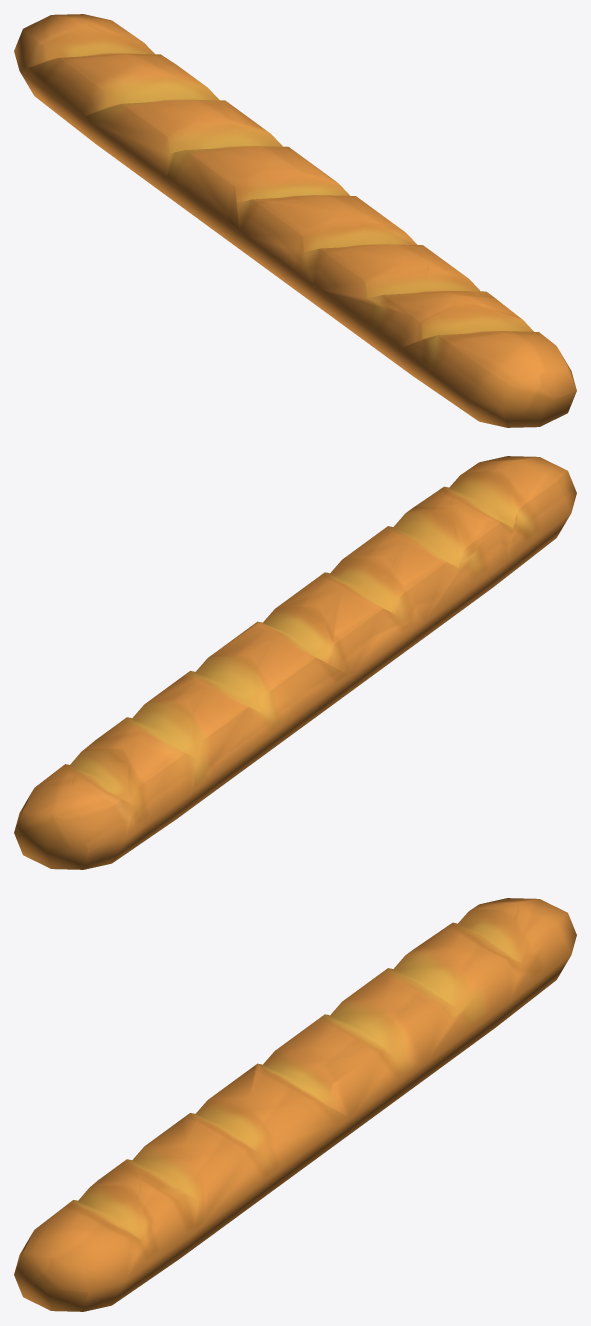
The model's file is baguette.fbx.
The picture shows the model from 3 angles, top to bottom: view 1: azimuth 30°, elevation 25°; view 2: azimuth 150°, elevation 25°; view 3: azimuth 330°, elevation 25°; orthographic projection.
Visible parts, largest first — view 1: baguette; view 2: baguette; view 3: baguette.
Boxes of the visible parts, box(x1,y1,x2,y2) form: baguette: box(14, 14, 576, 427); baguette: box(14, 456, 576, 869); baguette: box(14, 898, 576, 1311).
Bounding box in the file's own units: 9.17 × 6.42 × 71.04.
